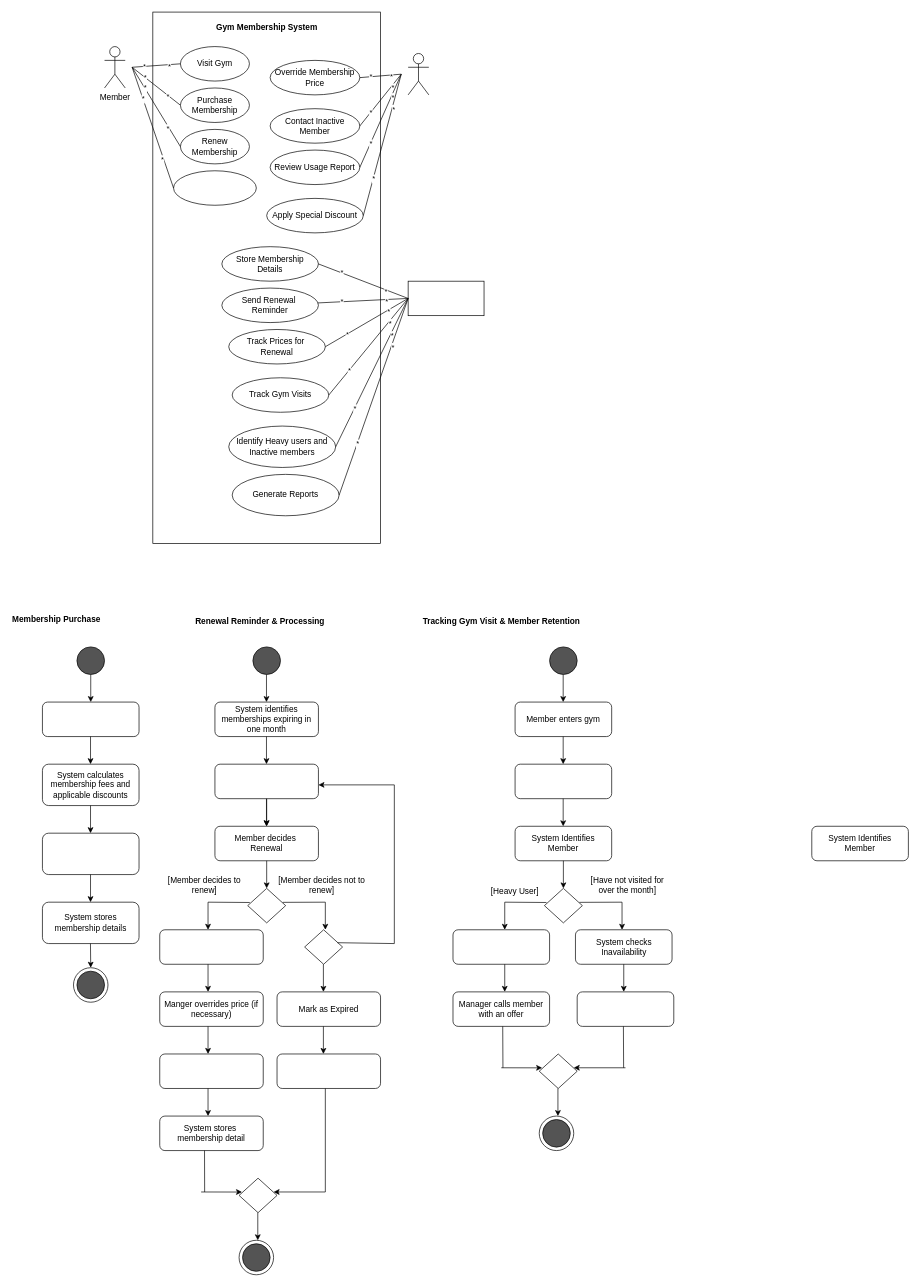
Image size: 920x1287. Some labels were removed from this diagram. Here are the shapes that lost their labels. From the top down, the centre of each, then its label:
At point 418,74: "Manager".
At point 214,187: "Receive Renewal Reminder".
At point 445,298: "<<Actor>> System".
At point 90,719: "Member selects membership duration".
At point 266,781: "System sends renewal reminder".
At point 563,781: "System Logs Visit".
At point 90,853: "Member pays fee".
At point 211,946: "System checks previous price".
At point 501,946: "System generates early renewal report".
At point 625,1008: "Manager calls member to re-interest the member".
At point 211,1070: "Member pays renewal fee".
At point 328,1070: "Log Non-Renewal".
